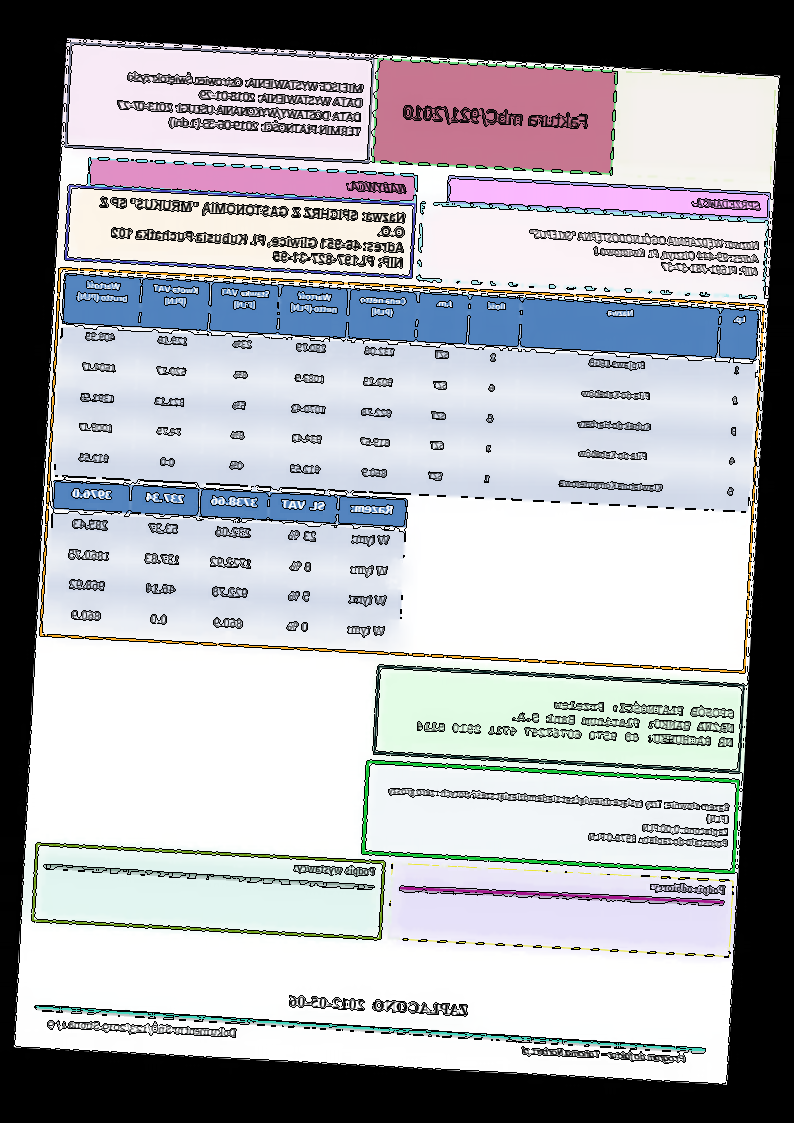Table: (52, 271, 762, 516), (43, 480, 408, 650)
TextBox: (93, 191, 411, 274), (383, 782, 733, 853), (414, 686, 737, 754), (112, 67, 368, 142), (523, 222, 763, 281), (400, 94, 598, 137), (44, 1014, 241, 1045), (283, 991, 472, 1022), (516, 1039, 690, 1067), (289, 859, 379, 882), (647, 876, 729, 900), (345, 174, 411, 199), (691, 193, 767, 214)
